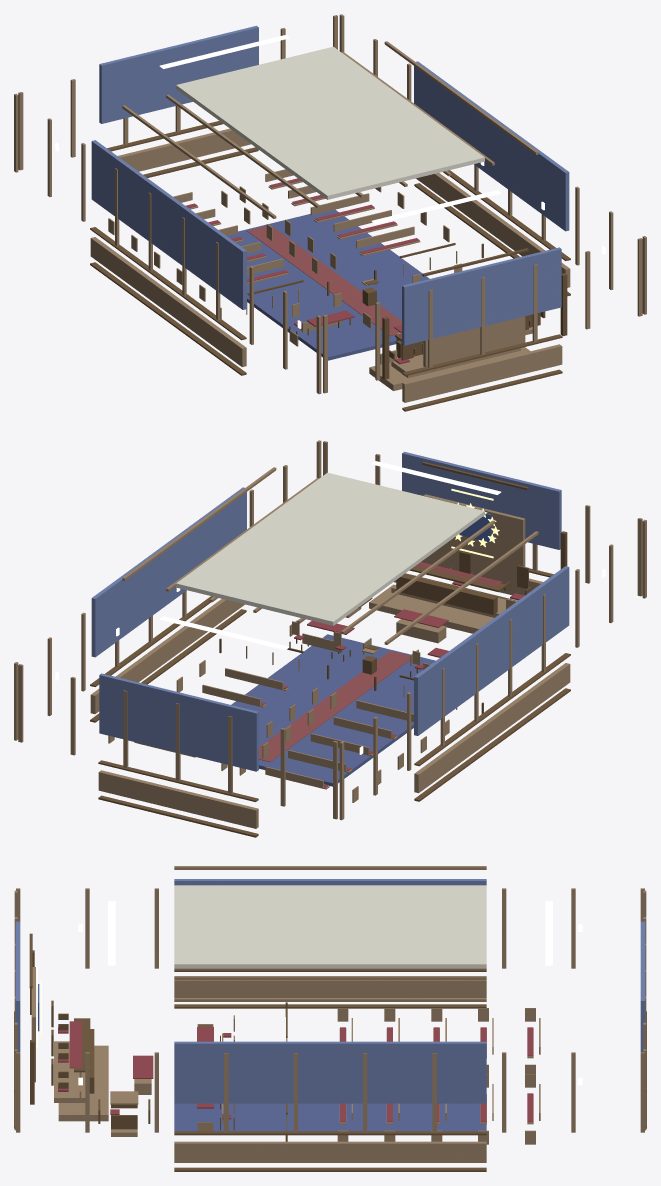
Rendered from courtroom_web.glb.
The picture shows the model from 3 angles, top to bottom: view 1: azimuth 30°, elevation 25°; view 2: azimuth 150°, elevation 25°; view 3: azimuth 270°, elevation 25°; orthographic projection. The views are drawn at different scales.
Visible parts, largest first — view 1: BackWall_base, CeilLight0; view 2: BackWall_base, CeilLight0; view 3: BackWall_base, CeilLight0.
Boxes of the visible parts, x1=… form: BackWall_base: x1=14, y1=14, x2=646, y2=411; CeilLight0: x1=55, y1=35, x2=605, y2=328; BackWall_base: x1=14, y1=440, x2=646, y2=837; CeilLight0: x1=55, y1=461, x2=605, y2=754; BackWall_base: x1=14, y1=866, x2=646, y2=1171; CeilLight0: x1=78, y1=901, x2=582, y2=1085.
Size of the model in its own units: 12.56 by 6.01 by 20.26.
Materials: 4 (4 with a texture image).
